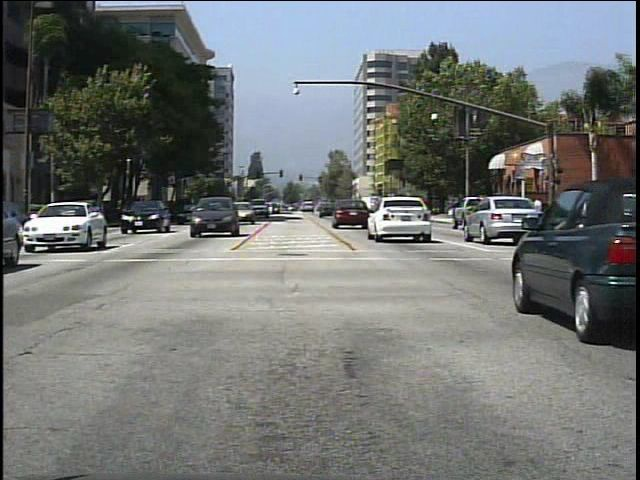person: (527, 194, 546, 229), (491, 189, 509, 224)
